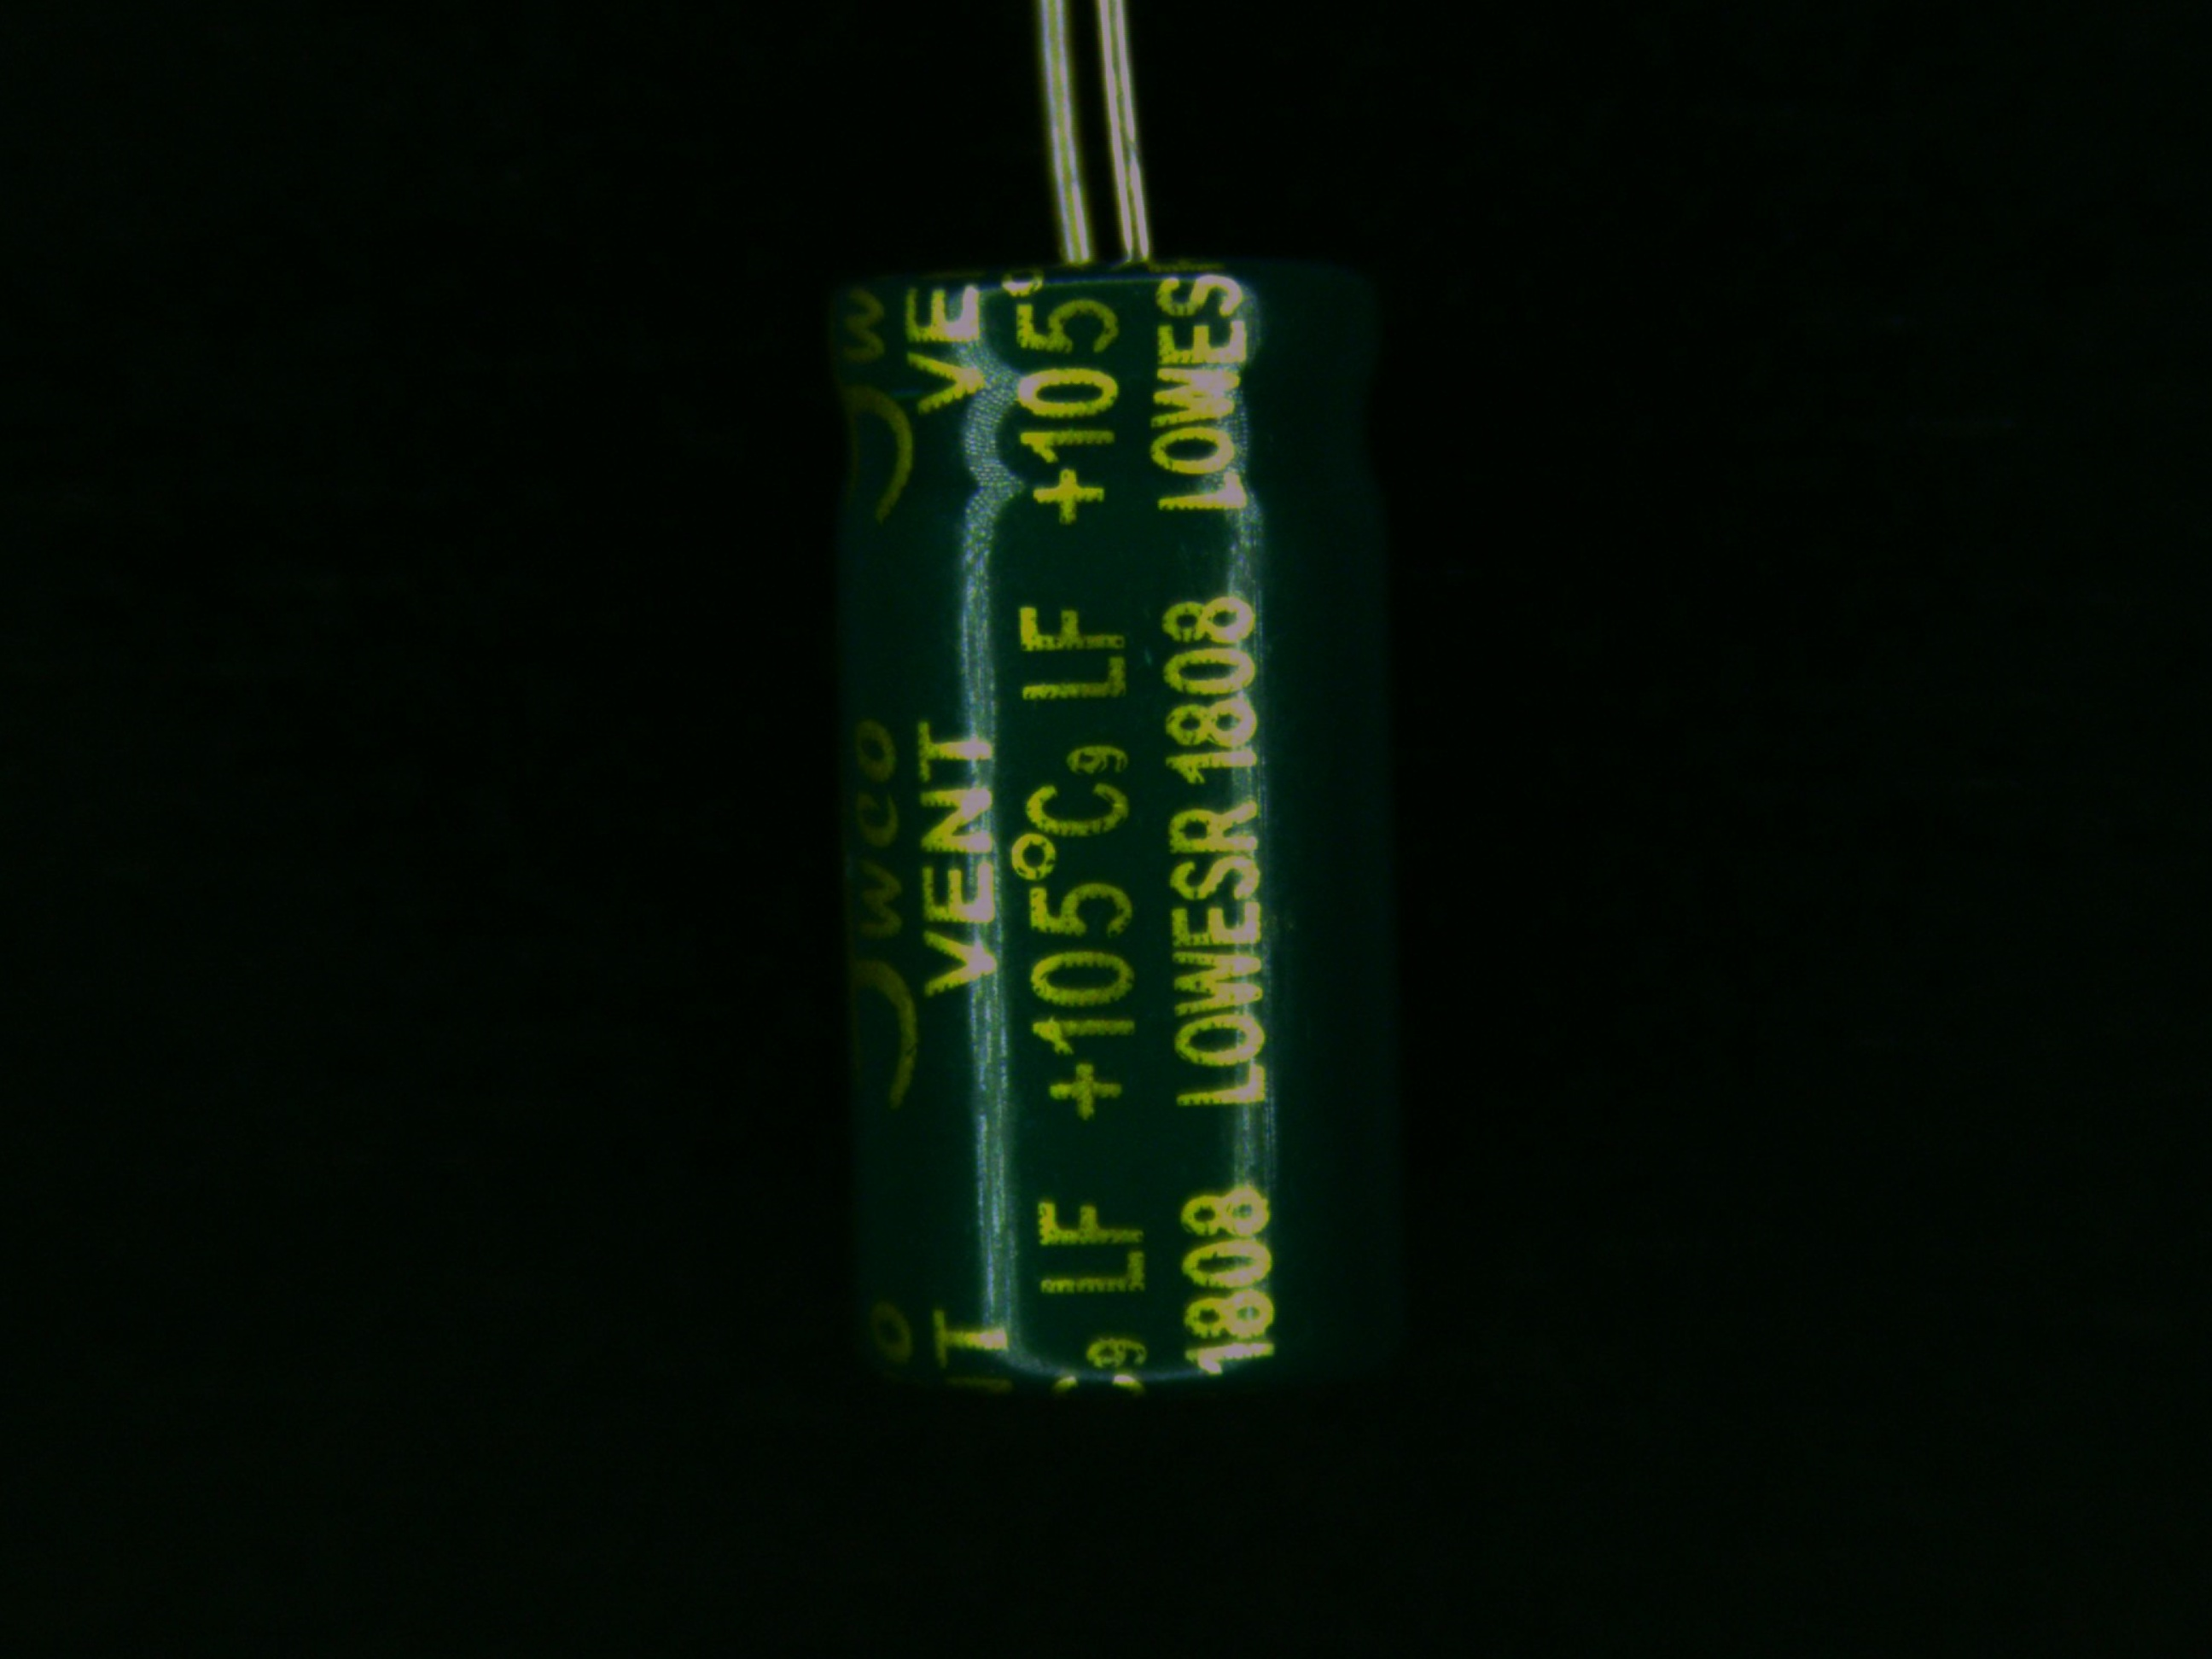c1: (812, 148, 1406, 1389)
